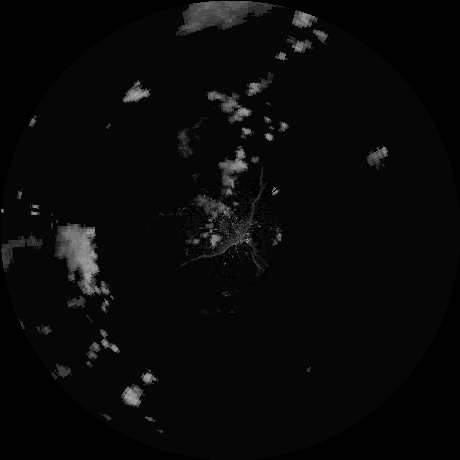frontgust: (189, 169, 266, 263)
